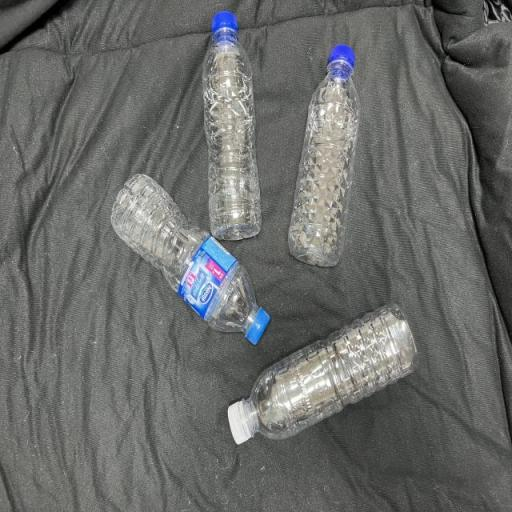plastic: (111, 175, 270, 347), (227, 308, 417, 446), (288, 45, 359, 269), (202, 11, 262, 244)
